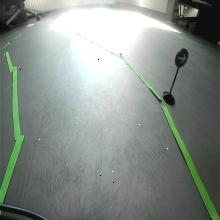right: (174, 46, 189, 69)
